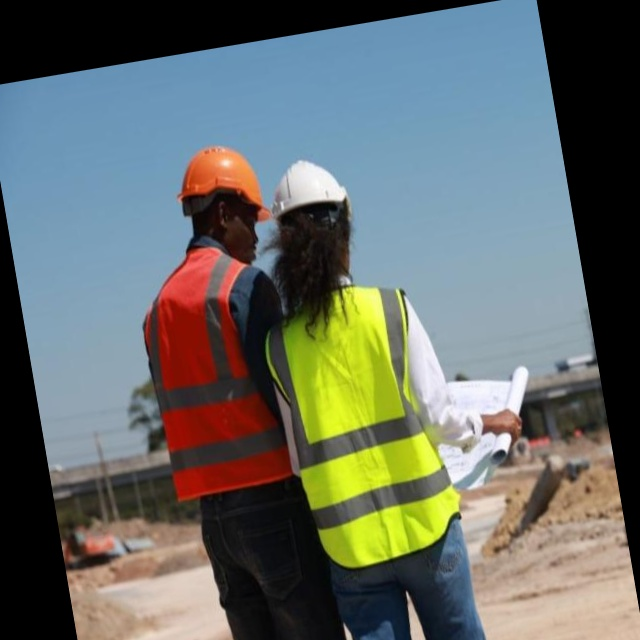Con_Chaleco: (259, 275, 459, 572), (131, 240, 299, 505)
